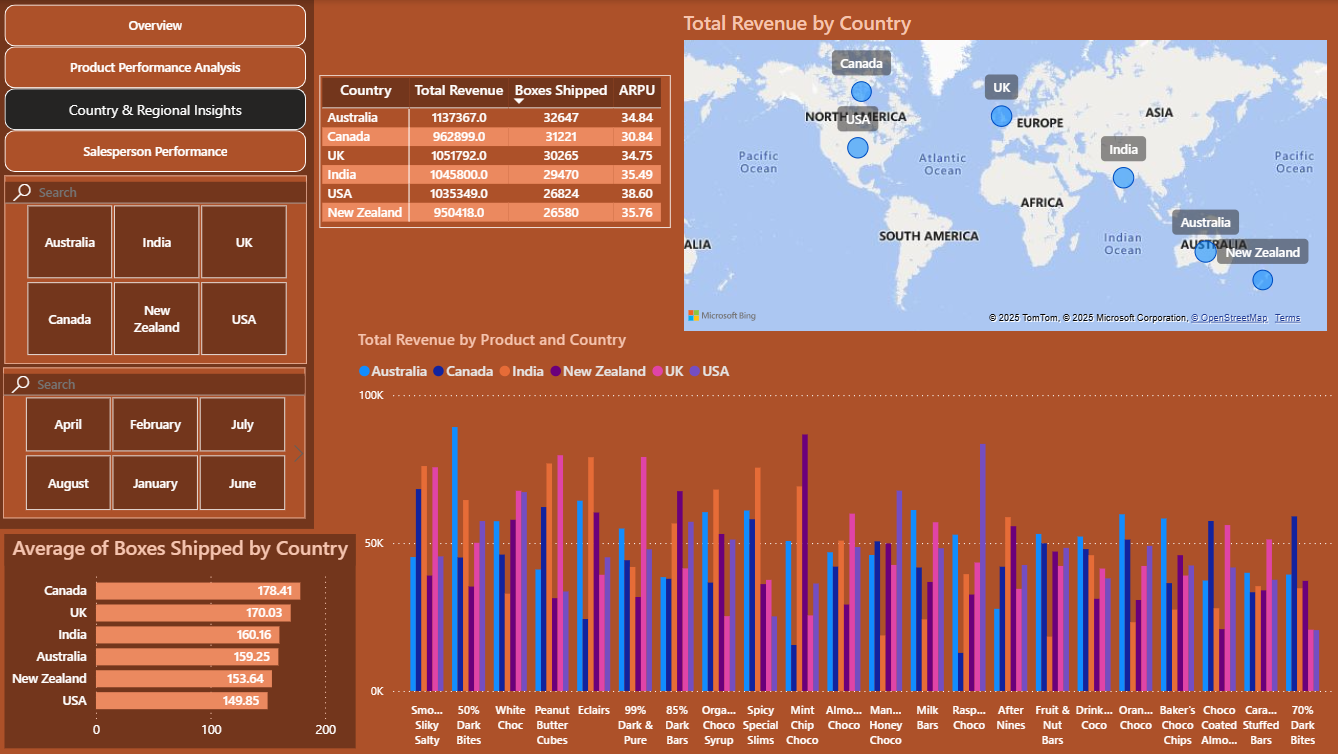

This screenshot's page, from the dashboard's own definition file:
{"tool":"powerbi","page":{"name":"Country & Regional Insights","canvas":[1280,720],"ordinal":2},"visuals":[{"type":"map","fields":{"Category":["Chocolate Sales.Country"],"Size":["Chocolate Sales.Total Revenue"]},"box":[647.4,8.6,624.5,312.3],"z":0},{"type":"barChart","fields":{"Category":["Chocolate Sales.Country"],"Y":["Avg(Chocolate Sales.Boxes Shipped)"]},"box":[4.3,509.9,335.2,204.8],"z":1000},{"type":"pivotTable","fields":{"Values":["Chocolate Sales.Total Revenue","Sum(Chocolate Sales.Boxes Shipped)","Chocolate Sales.ARPU"],"Rows":["Chocolate Sales.Country"]},"box":[305.1,71.6,335.2,146.1],"z":2000},{"type":"clusteredColumnChart","fields":{"Y":["Chocolate Sales.Total Revenue"],"Series":["Chocolate Sales.Country"],"Category":["Chocolate Sales.Product"]},"box":[336.6,313.7,943.9,406.8],"z":3000},{"type":"shape","box":[0,0,299.8,505.1],"z":4000},{"type":"pageNavigator","box":[3.9,4.9,288.9,160.5],"z":5000},{"type":"slicer","fields":{"Values":["Chocolate Sales.Country"]},"box":[3.9,168.3,288.9,179.9],"z":6000},{"type":"slicer","fields":{"Values":["Chocolate Sales.Month"]},"box":[3,351.1,288.9,144],"z":7000}]}

Visuals, with their boxes in screenshot pixels (x1, y1, x2, y2), scaled from the page's 1280x720 canvas onto the 1338x754 screenshot:
map - Chocolate Sales.Country x Chocolate Sales.Total Revenue: box(677, 9, 1330, 336)
barChart - Chocolate Sales.Country x Avg(Chocolate Sales.Boxes Shipped): box(4, 534, 355, 748)
pivotTable - Chocolate Sales.Total Revenue x Sum(Chocolate Sales.Boxes Shipped): box(319, 75, 669, 228)
clusteredColumnChart - Chocolate Sales.Total Revenue x Chocolate Sales.Country: box(352, 329, 1337, 753)
shape: box(0, 0, 313, 529)
pageNavigator: box(4, 5, 306, 173)
slicer - Chocolate Sales.Country: box(4, 176, 306, 365)
slicer - Chocolate Sales.Month: box(3, 368, 305, 518)
